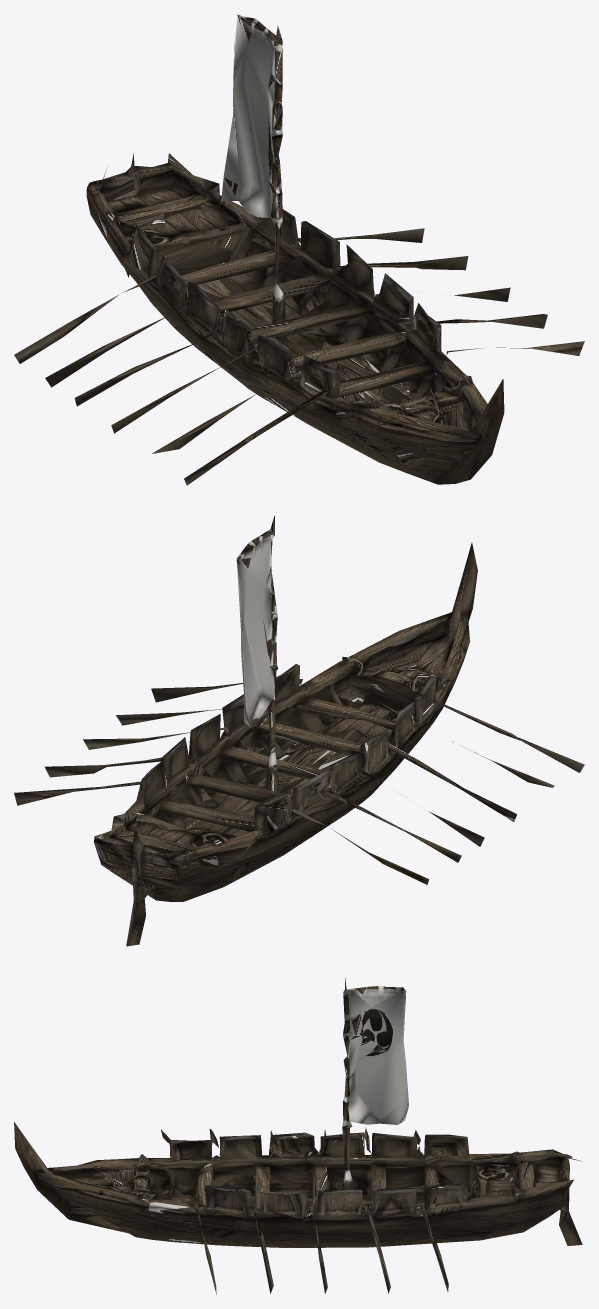
The model's file is kobaya_lod1.glb.
3 views of the same model, one above another, from view 1: azimuth 30°, elevation 25°; view 2: azimuth 150°, elevation 25°; view 3: azimuth 270°, elevation 25° (orthographic). The views are drawn at different scales.
Parts seen in each view (by area): view 1: tripo_node_a41fa920-4eb9-4cb9-be5d-4c4bae7727ba; view 2: tripo_node_a41fa920-4eb9-4cb9-be5d-4c4bae7727ba; view 3: tripo_node_a41fa920-4eb9-4cb9-be5d-4c4bae7727ba.
Boxes of the visible parts, x1,y1,x2,y2 form: tripo_node_a41fa920-4eb9-4cb9-be5d-4c4bae7727ba: (14,14,584,485); tripo_node_a41fa920-4eb9-4cb9-be5d-4c4bae7727ba: (14,515,584,946); tripo_node_a41fa920-4eb9-4cb9-be5d-4c4bae7727ba: (14,978,582,1294).
Size of the model in its own units: 0.6496 by 0.5094 by 0.9719.
Materials: 1 (1 with a texture image).
